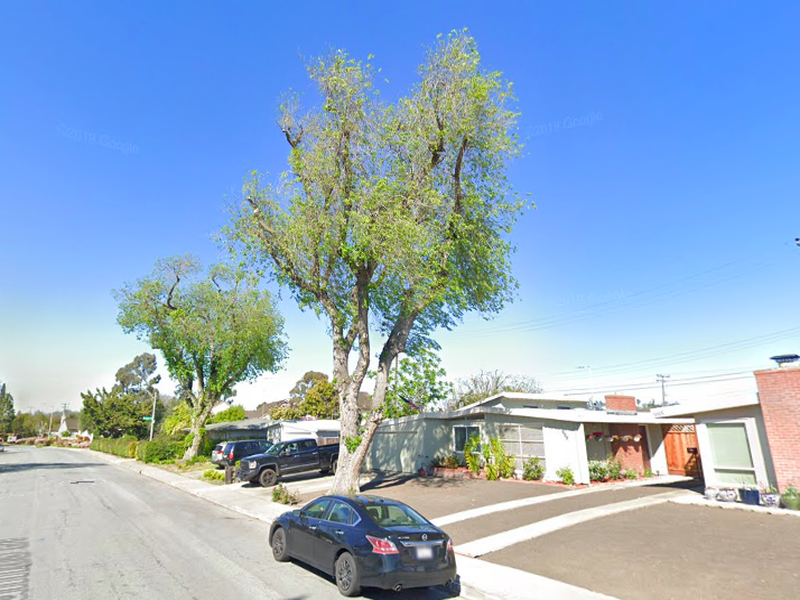tree: (208, 24, 538, 507), (109, 251, 292, 469)
